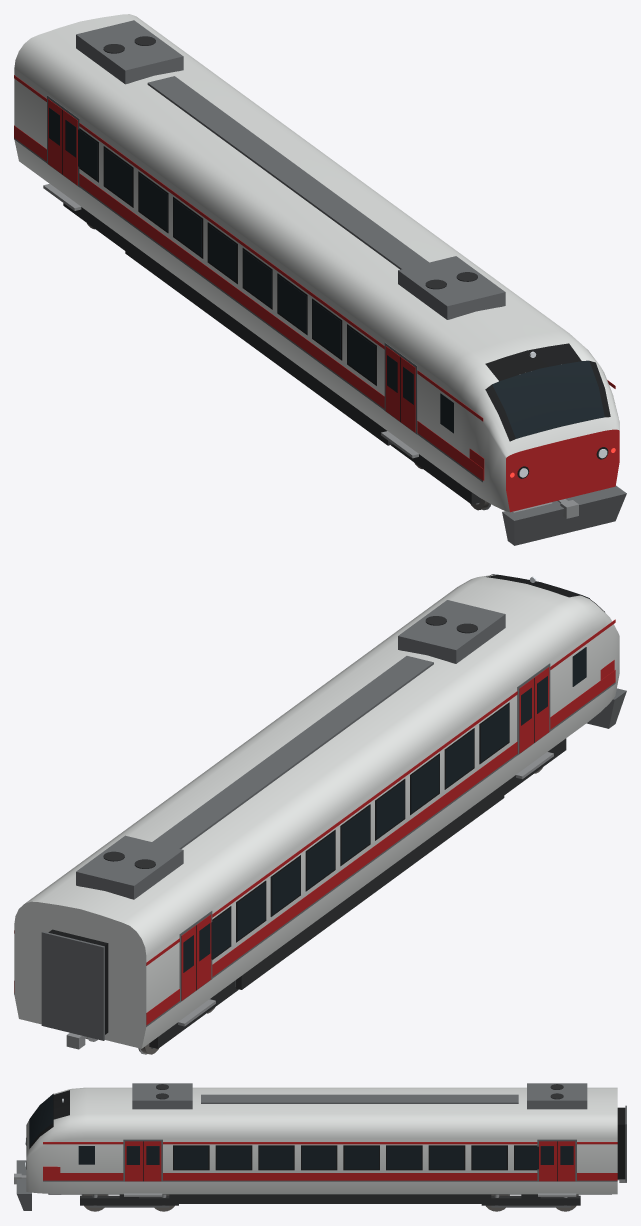
Rendered from RS_EMU_Head.fbx.
The picture shows the model from 3 angles, top to bottom: view 1: azimuth 30°, elevation 25°; view 2: azimuth 150°, elevation 25°; view 3: azimuth 270°, elevation 25°; orthographic projection. The views are drawn at different scales.
Visible parts, largest first — view 1: EMU_Head_Paint_White, EMU_Head_Paint_Grey, EMU_Head_Glass, EMU_Head_Paint_Red, EMU_Head_Underframe, EMU_Head_Rubber, EMU_Head_Steel; view 2: EMU_Head_Paint_White, EMU_Head_Paint_Grey, EMU_Head_Glass, EMU_Head_Paint_Red, EMU_Head_Underframe, EMU_Head_Rubber, EMU_Head_Steel; view 3: EMU_Head_Paint_White, EMU_Head_Glass, EMU_Head_Paint_Grey, EMU_Head_Paint_Red, EMU_Head_Underframe, EMU_Head_Rubber, EMU_Head_Steel, EMU_Head_Wheel.
Part boxes in pixels (left/top/right/bottom): EMU_Head_Paint_White: left=14, top=14, right=619, bottom=512; EMU_Head_Paint_Grey: left=14, top=20, right=626, bottom=545; EMU_Head_Glass: left=49, top=107, right=604, bottom=438; EMU_Head_Paint_Red: left=14, top=75, right=619, bottom=512; EMU_Head_Underframe: left=63, top=36, right=480, bottom=504; EMU_Head_Rubber: left=62, top=109, right=610, bottom=478; EMU_Head_Steel: left=43, top=183, right=578, bottom=518; EMU_Head_Paint_White: left=14, top=575, right=619, bottom=1048; EMU_Head_Paint_Grey: left=14, top=600, right=626, bottom=1048; EMU_Head_Glass: left=183, top=574, right=589, bottom=972; EMU_Head_Paint_Red: left=14, top=619, right=615, bottom=1025; EMU_Head_Underframe: left=103, top=616, right=566, bottom=1048; EMU_Head_Rubber: left=48, top=574, right=604, bottom=1034; EMU_Head_Steel: left=66, top=752, right=553, bottom=1054; EMU_Head_Paint_White: left=26, top=1087, right=617, bottom=1194; EMU_Head_Glass: left=29, top=1094, right=573, bottom=1169; EMU_Head_Paint_Grey: left=16, top=1083, right=626, bottom=1210; EMU_Head_Paint_Red: left=43, top=1141, right=617, bottom=1181; EMU_Head_Underframe: left=48, top=1084, right=611, bottom=1205; EMU_Head_Rubber: left=26, top=1090, right=625, bottom=1181; EMU_Head_Steel: left=14, top=1173, right=626, bottom=1205; EMU_Head_Wheel: left=82, top=1194, right=577, bottom=1211.
Bounding box in the file's own units: 3.64 × 4.47 × 22.3.
